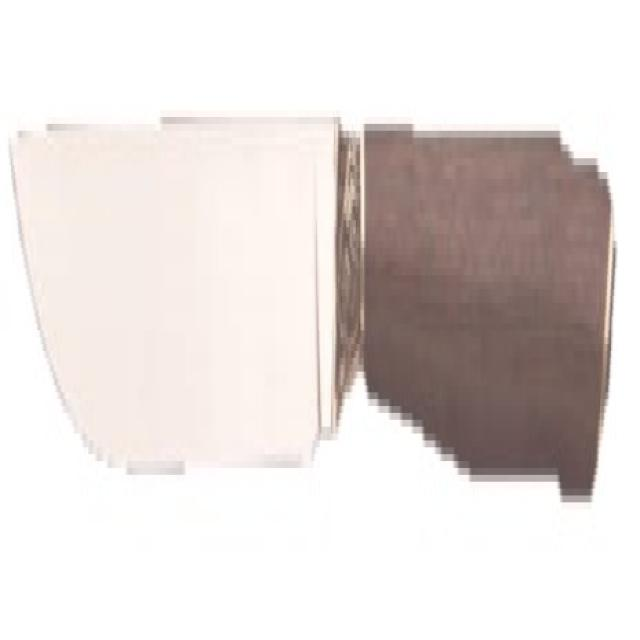knife: (7, 72, 618, 588)
